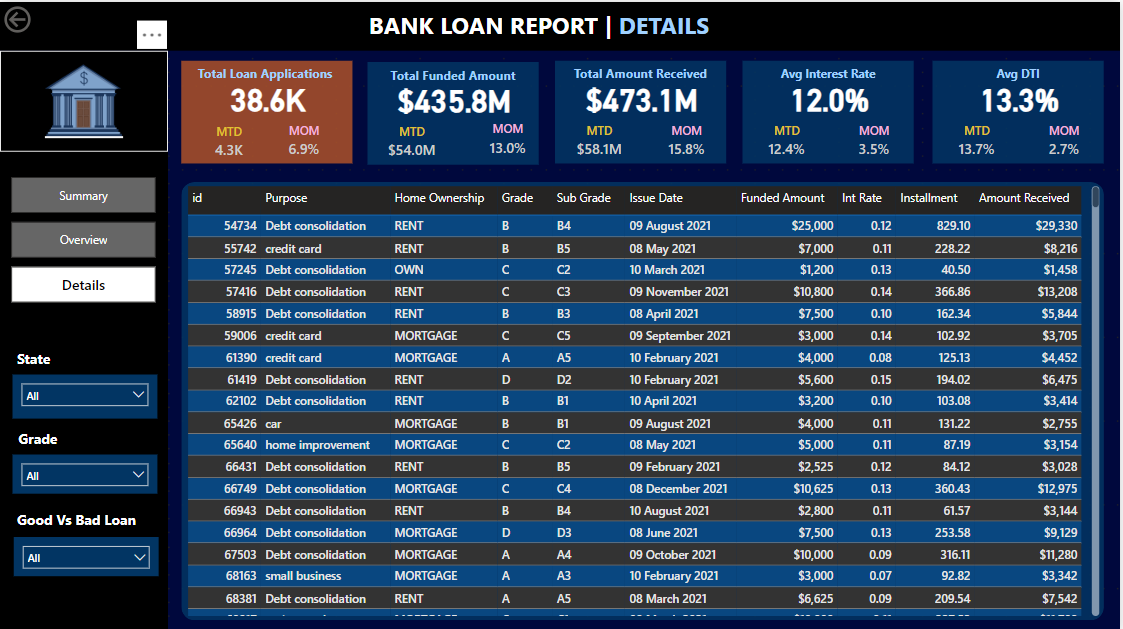

The page's visual inventory and layout, read from the dashboard file:
{"tool":"powerbi","page":{"name":"Details","canvas":[1280,720],"ordinal":2},"visuals":[{"type":"shape","box":[634.8,66.7,195.7,117.4],"z":0,"group":"g6"},{"type":"shape","box":[849.3,66.7,195.7,117.4],"z":0,"group":"g7"},{"type":"shape","box":[1065.2,66.7,195.7,117.4],"z":0,"group":"g8"},{"type":"shape","box":[207.3,205.9,1054.6,500.9],"z":0},{"type":"shape","box":[0,0,1280,55.7],"z":1000},{"type":"card","fields":{"Values":["bank_loan_data.Total Amount Received"]},"box":[636.2,82.6,195.7,53.6],"z":1000,"group":"g6"},{"type":"card","fields":{"Values":["bank_loan_data.Avg Interest Rate"]},"box":[850.7,82.6,195.7,53.6],"z":1000,"group":"g7"},{"type":"card","fields":{"Values":["bank_loan_data.Avg DTI"]},"box":[1066.6,82.6,195.7,53.6],"z":1000,"group":"g8"},{"type":"shape","box":[0,55.4,192,665],"z":2000},{"type":"shape","box":[207.2,66.7,195.7,117.4],"z":2000,"group":"g1"},{"type":"textbox","box":[634.8,66.7,195.7,30.4],"z":2000,"group":"g6"},{"type":"textbox","box":[849.3,66.7,195.7,30.4],"z":2000,"group":"g7"},{"type":"textbox","box":[1065.2,66.7,195.7,30.4],"z":2000,"group":"g8"},{"type":"shape","box":[420.3,68.1,195.7,117.4],"z":2000,"group":"g5"},{"type":"textbox","box":[392,2.7,449.3,52],"z":3000},{"type":"card","title":"MTD","fields":{"Values":["bank_loan_data.MTD Total Amount Received"]},"box":[647.8,136.3,75.4,47.8],"z":3000,"group":"g6"},{"type":"card","title":"MTD","fields":{"Values":["bank_loan_data.MTD Avg Int Rate"]},"box":[862.3,136.3,75.4,47.8],"z":3000,"group":"g7"},{"type":"card","title":"MTD","fields":{"Values":["bank_loan_data.MTD Averge DTI"]},"box":[1078.2,136.3,75.4,47.8],"z":3000,"group":"g8"},{"type":"group","id":"g1","title":"Group 1","box":[207.2,66.7,197.1,118.8],"z":4000},{"type":"card","fields":{"Values":["bank_loan_data.Toal Loan Applications"]},"box":[208.6,82.6,195.7,53.6],"z":4000,"group":"g1"},{"type":"card","fields":{"Values":["bank_loan_data.Total Funded Amount"]},"box":[421.7,84,195.7,53.6],"z":4000,"group":"g5"},{"type":"group","id":"g2","title":"Group 1","box":[758.8,136.7,52.2,47.8],"z":4000,"group":"g6"},{"type":"group","id":"g3","title":"Group 1","box":[973.3,136.7,52.2,47.8],"z":4000,"group":"g7"},{"type":"group","id":"g4","title":"Group 1","box":[1189.2,136.7,52.2,47.8],"z":4000,"group":"g8"},{"type":"textbox","box":[207.2,66.7,195.7,30.4],"z":5000,"group":"g1"},{"type":"group","id":"g5","title":"Group 2","box":[420.3,68.1,197.1,117.4],"z":5000},{"type":"textbox","box":[420.3,68.1,195.7,30.4],"z":5000,"group":"g5"},{"type":"group","id":"g6","title":"Group 3","box":[634.8,66.7,197.1,117.4],"z":6000},{"type":"card","title":"MTD","fields":{"Values":["bank_loan_data.MTD Loan Aplications"]},"box":[237.6,137.7,49.3,47.8],"z":6000,"group":"g1"},{"type":"card","title":"MTD","fields":{"Values":["bank_loan_data.MTD Funded Amount"]},"box":[433.3,137.7,75.4,47.8],"z":6000,"group":"g5"},{"type":"group","id":"g7","title":"Group 3","box":[849.3,66.7,197.1,117.4],"z":7000},{"type":"card","title":"MOM","fields":{"Values":["bank_loan_data.MOM Loan Applications"]},"box":[323.1,136.3,49.3,47.8],"z":7000,"group":"g1"},{"type":"card","title":"MOM","fields":{"Values":["bank_loan_data.MOM Total Amount Received"]},"box":[758.8,136.7,52.2,47.8],"z":7000,"group":"g2"},{"type":"card","title":"MOM","fields":{"Values":["bank_loan_data.MOM Avg Int Rate"]},"box":[973.3,136.7,52.2,47.8],"z":7000,"group":"g3"},{"type":"card","title":"MOM","fields":{"Values":["bank_loan_data.MOM Avg DTI"]},"box":[1189.2,136.7,52.2,47.8],"z":7000,"group":"g4"},{"type":"card","title":"MOM","fields":{"Values":["bank_loan_data.MOM Total Funded Amount"]},"box":[553.6,136.2,52.2,47.8],"z":8000},{"type":"group","id":"g8","title":"Group 3","box":[1065.2,66.7,197.1,117.4],"z":9000},{"type":"slicer","fields":{"Values":["bank_loan_data.address_state"]},"box":[13.6,425.7,165.6,50.1],"z":10000},{"type":"textbox","box":[13.6,391,64,34.8],"z":11000},{"type":"slicer","fields":{"Values":["bank_loan_data.grade"]},"box":[13.6,517.6,165.6,44.5],"z":12000},{"type":"textbox","box":[15,482.8,83.5,34.8],"z":13000},{"type":"slicer","fields":{"Values":["bank_loan_data.Good vs Bad Loan"]},"box":[15,610.8,165.6,44.5],"z":14000},{"type":"textbox","box":[13.6,576,165.6,34.8],"z":15000},{"type":"tableEx","fields":{"Values":["bank_loan_data.id","bank_loan_data.purpose","bank_loan_data.home_ownership","bank_loan_data.grade","bank_loan_data.sub_grade","bank_loan_data.issue_date","bank_loan_data.Total Funded Amount","Sum(bank_loan_data.int_rate)","Sum(bank_loan_data.installment)","bank_loan_data.Total Amount Received"]},"box":[208.7,205.9,1053.2,500.9],"z":16000},{"type":"actionButton","box":[0,0,100,40],"z":17000},{"type":"image","box":[0,55.7,192,115.5],"z":18000},{"type":"pageNavigator","box":[12.5,200.3,165.6,144.7],"z":19000}]}

Visuals, with their boxes on the page's 1280x720 design canvas (x1, y1, x2, y2). These are canvas units, not pixel positions in the 1123x629 screenshot, which may show the page scaled, cropped or inside an application window:
shape: bbox(635, 67, 830, 184)
shape: bbox(849, 67, 1045, 184)
shape: bbox(1065, 67, 1261, 184)
shape: bbox(207, 206, 1262, 707)
shape: bbox(0, 0, 1280, 56)
card - bank_loan_data.Total Amount Received: bbox(636, 83, 832, 136)
card - bank_loan_data.Avg Interest Rate: bbox(851, 83, 1046, 136)
card - bank_loan_data.Avg DTI: bbox(1067, 83, 1262, 136)
shape: bbox(0, 55, 192, 720)
shape: bbox(207, 67, 403, 184)
textbox: bbox(635, 67, 830, 97)
textbox: bbox(849, 67, 1045, 97)
textbox: bbox(1065, 67, 1261, 97)
shape: bbox(420, 68, 616, 186)
textbox: bbox(392, 3, 841, 55)
"MTD" card: bbox(648, 136, 723, 184)
"MTD" card: bbox(862, 136, 938, 184)
"MTD" card: bbox(1078, 136, 1154, 184)
"Group 1" group: bbox(207, 67, 404, 186)
card - bank_loan_data.Toal Loan Applications: bbox(209, 83, 404, 136)
card - bank_loan_data.Total Funded Amount: bbox(422, 84, 617, 138)
"Group 1" group: bbox(759, 137, 811, 184)
"Group 1" group: bbox(973, 137, 1026, 184)
"Group 1" group: bbox(1189, 137, 1241, 184)
textbox: bbox(207, 67, 403, 97)
"Group 2" group: bbox(420, 68, 617, 186)
textbox: bbox(420, 68, 616, 98)
"Group 3" group: bbox(635, 67, 832, 184)
"MTD" card: bbox(238, 138, 287, 186)
"MTD" card: bbox(433, 138, 509, 186)
"Group 3" group: bbox(849, 67, 1046, 184)
"MOM" card: bbox(323, 136, 372, 184)
"MOM" card: bbox(759, 137, 811, 184)
"MOM" card: bbox(973, 137, 1026, 184)
"MOM" card: bbox(1189, 137, 1241, 184)
"MOM" card: bbox(554, 136, 606, 184)
"Group 3" group: bbox(1065, 67, 1262, 184)
slicer - bank_loan_data.address_state: bbox(14, 426, 179, 476)
textbox: bbox(14, 391, 78, 426)
slicer - bank_loan_data.grade: bbox(14, 518, 179, 562)
textbox: bbox(15, 483, 98, 518)
slicer - bank_loan_data.Good vs Bad Loan: bbox(15, 611, 181, 655)
textbox: bbox(14, 576, 179, 611)
tableEx - bank_loan_data.id x bank_loan_data.purpose: bbox(209, 206, 1262, 707)
actionButton: bbox(0, 0, 100, 40)
image: bbox(0, 56, 192, 171)
pageNavigator: bbox(12, 200, 178, 345)
